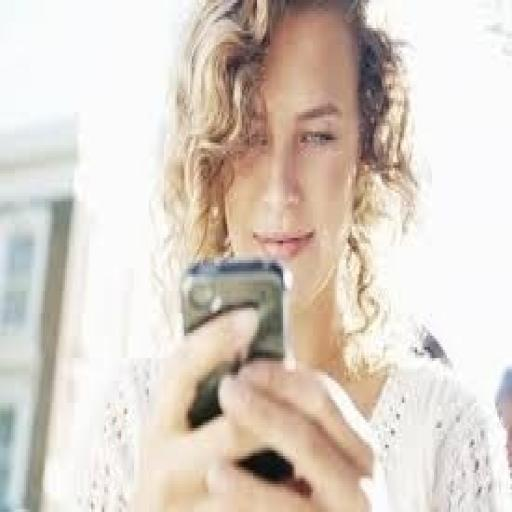texting: (127, 0, 508, 509)
